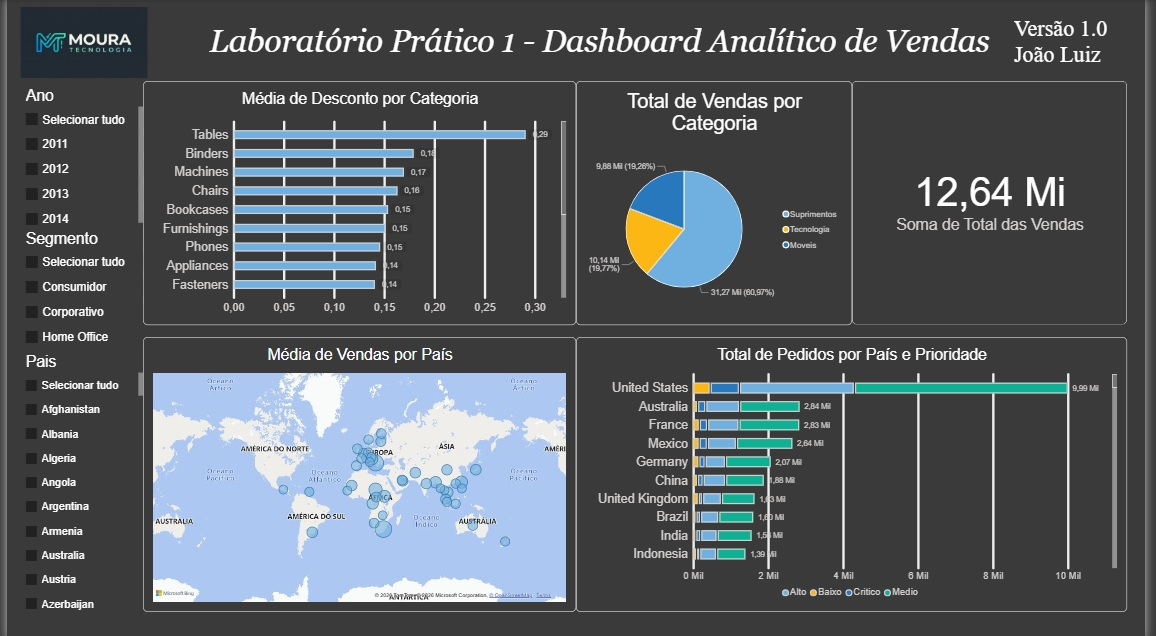

Layout of this report page (visuals, bound fields, positions):
{"tool":"powerbi","page":{"name":"Página 1","canvas":[1920,1080],"ordinal":0},"visuals":[{"type":"cardVisual","fields":{"Data":["Sum(dataset.Total_Vendas)"]},"box":[1425.9,138.4,464.1,411.8],"z":0},{"type":"pieChart","title":"Total de Vendas por Categoria","fields":{"Category":["dataset.Categoria"],"Y":["CountNonNull(dataset.ID_Pedido)"]},"box":[960.2,138.4,465.8,411.8],"z":1000},{"type":"barChart","title":"Total de Pedidos por País e Prioridade","fields":{"Category":["dataset.Pais"],"Series":["dataset.Prioridade"],"Y":["CountNonNull(dataset.ID_Pedido)"]},"box":[960.2,570.4,929.8,464.1],"z":2000},{"type":"clusteredBarChart","title":"Média de Desconto por Categoria","fields":{"Category":["dataset.SubCategoria"],"Y":["Avg(dataset.Desconto)"]},"box":[229.5,138.4,730.7,411.8],"z":3000},{"type":"map","title":"Média de Vendas por País","fields":{"Category":["dataset.Pais"],"Size":["Avg(dataset.Total_Vendas)"]},"box":[229.5,570.4,730.7,464.1],"z":4000},{"type":"slicer","fields":{"Values":["dataset.Pais"]},"box":[23.6,597.4,205.9,437.1],"z":5000},{"type":"slicer","fields":{"Values":["dataset.Segmento"]},"box":[23.6,389.8,205.9,207.6],"z":6000},{"type":"slicer","fields":{"Values":["dataset.Data_Pedido.Variação.Hierarquia de datas.Ano"]},"box":[23.1,148.4,206.3,241],"z":7000},{"type":"image","box":[0,13.5,260.2,119.5],"z":8000},{"type":"textbox","box":[259.9,40.5,1479.9,92.8],"z":9001},{"type":"textbox","box":[1699.3,28.7,189,104.6],"z":9002}]}

Visuals, with their boxes in screenshot pixels (x1, y1, x2, y2), scaled from the page's 1920x1080 canvas onto the 1156x636 screenshot:
cardVisual - Sum(dataset.Total_Vendas): bbox(859, 82, 1138, 324)
"Total de Vendas por Categoria" pieChart: bbox(578, 82, 859, 324)
"Total de Pedidos por País e Prioridade" barChart: bbox(578, 336, 1138, 609)
"Média de Desconto por Categoria" clusteredBarChart: bbox(138, 82, 578, 324)
"Média de Vendas por País" map: bbox(138, 336, 578, 609)
slicer - dataset.Pais: bbox(14, 352, 138, 609)
slicer - dataset.Segmento: bbox(14, 230, 138, 352)
slicer - dataset.Data_Pedido.Variação.Hierarquia de datas.Ano: bbox(14, 87, 138, 229)
image: bbox(0, 8, 157, 78)
textbox: bbox(156, 24, 1048, 78)
textbox: bbox(1023, 17, 1137, 78)
